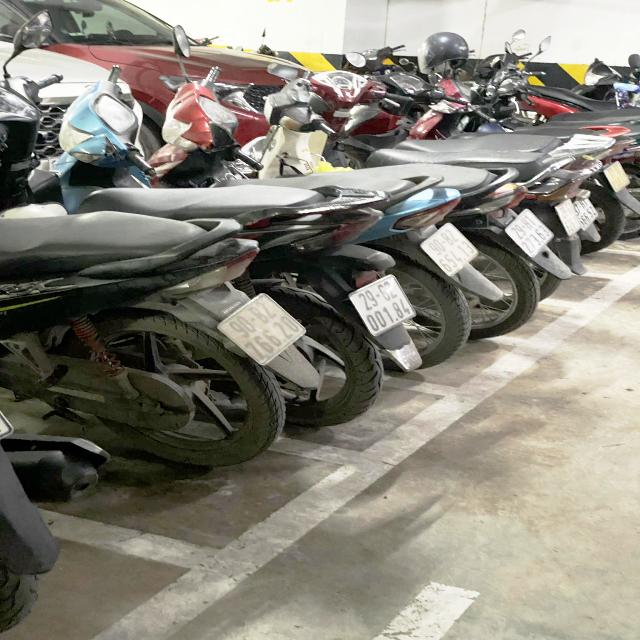license_plate: (217, 293, 308, 368), (349, 274, 418, 336), (422, 220, 483, 278), (506, 206, 559, 258), (556, 199, 584, 236)
